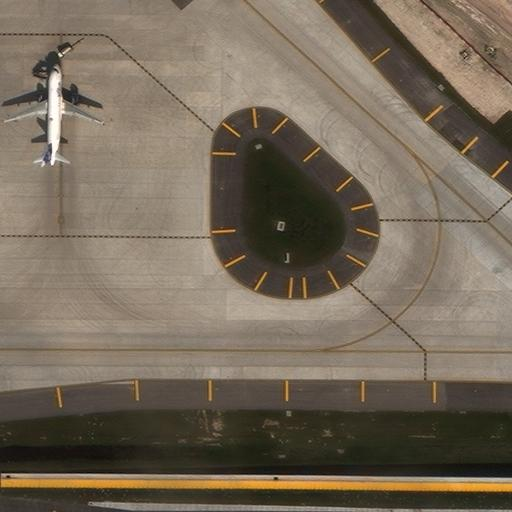Medium Civil Transport: (5, 63, 106, 167)
